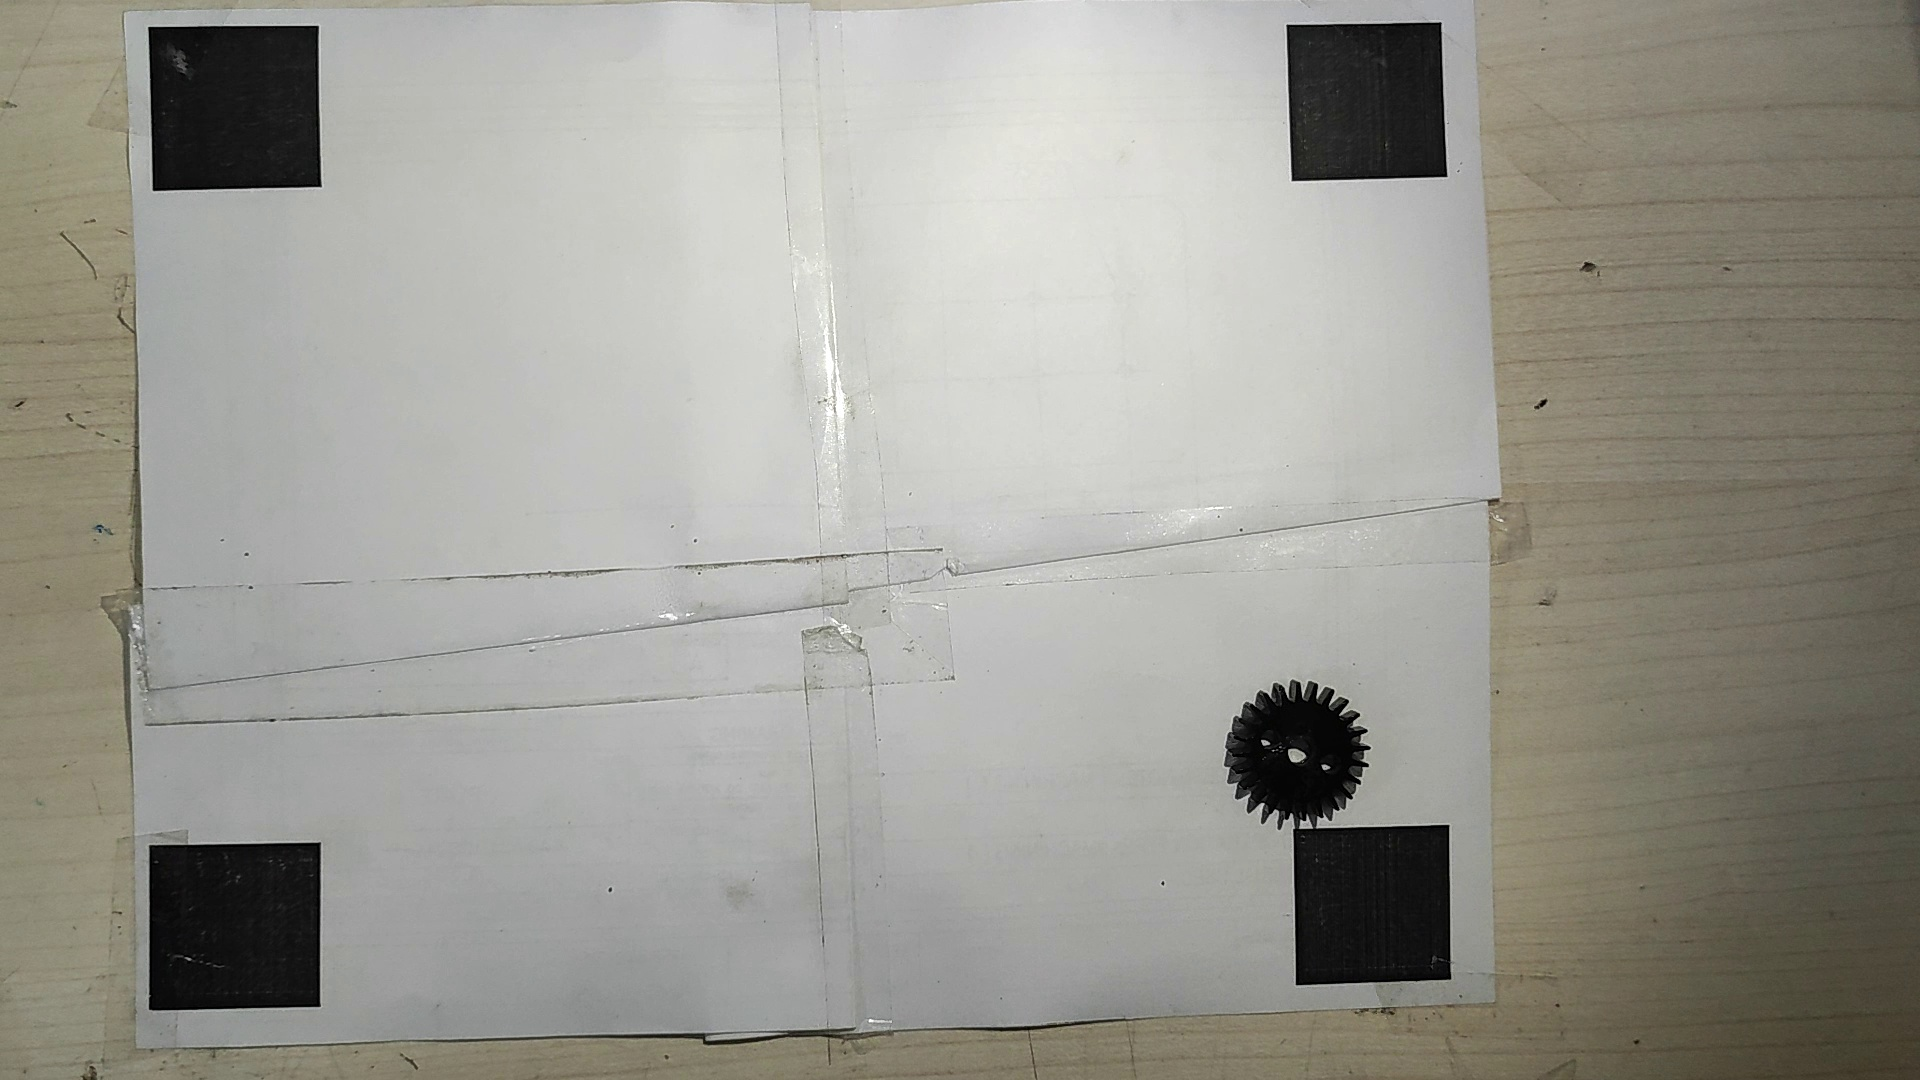Gear: (1218, 676, 1367, 829)
